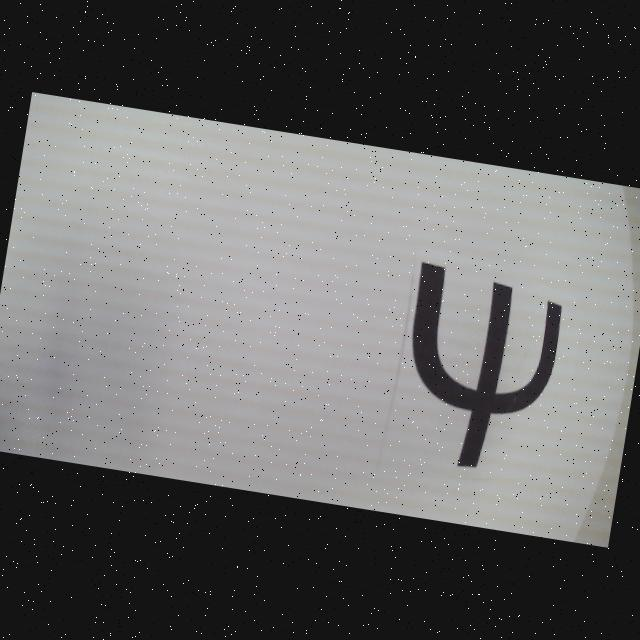PSI: (390, 262, 568, 479)
